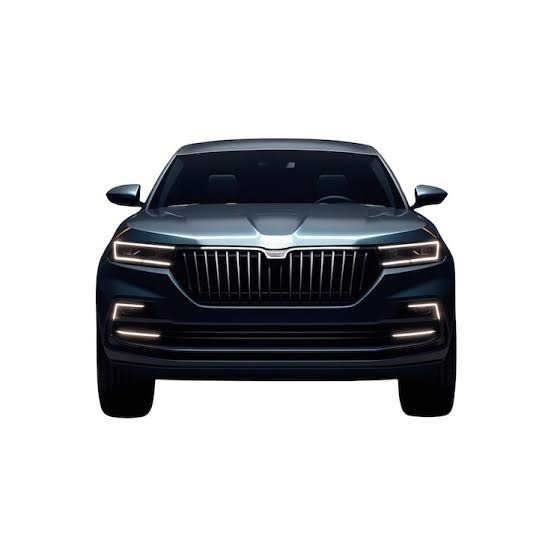car: (91, 134, 459, 418)
